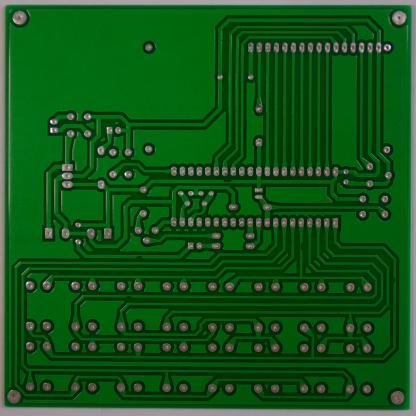mouse_bite: (130, 252, 145, 261), (221, 177, 233, 185), (298, 240, 306, 252), (123, 293, 134, 301), (390, 275, 397, 286)
